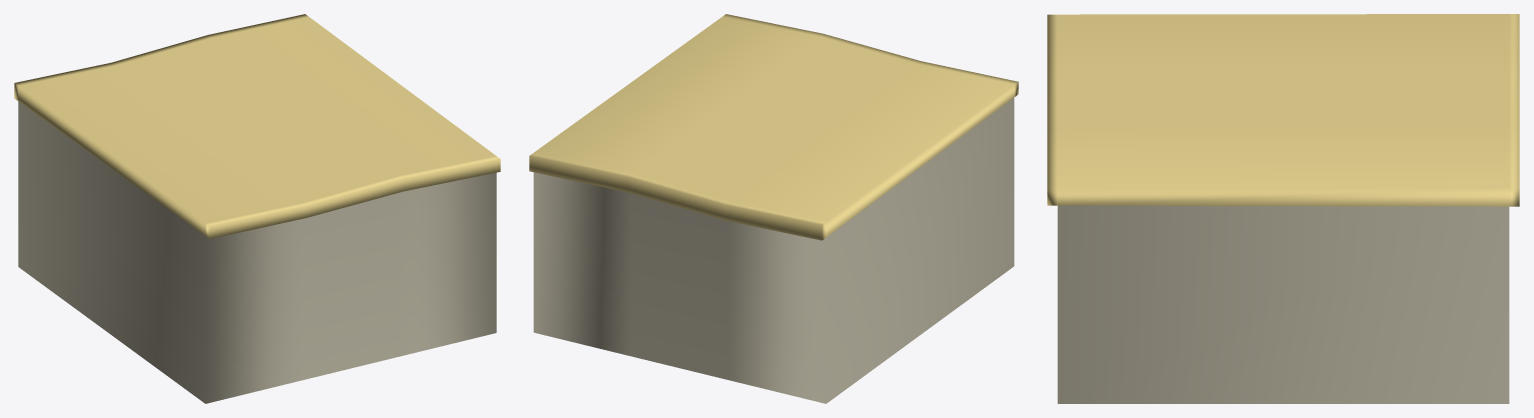
The model's file is Building_C_7.fbx.
3 views of the same model, side by side, from view 1: azimuth 30°, elevation 25°; view 2: azimuth 150°, elevation 25°; view 3: azimuth 270°, elevation 25° (orthographic). The views are drawn at different scales.
Parts seen in each view (by area): view 1: Building_C_7; view 2: Building_C_7; view 3: Building_C_7.
Part boxes in pixels (x1=…): Building_C_7: x1=14, y1=14, x2=500, y2=403; Building_C_7: x1=529, y1=14, x2=1018, y2=403; Building_C_7: x1=1047, y1=14, x2=1519, y2=403.
Size of the model in its own units: 418 by 249 by 487.
